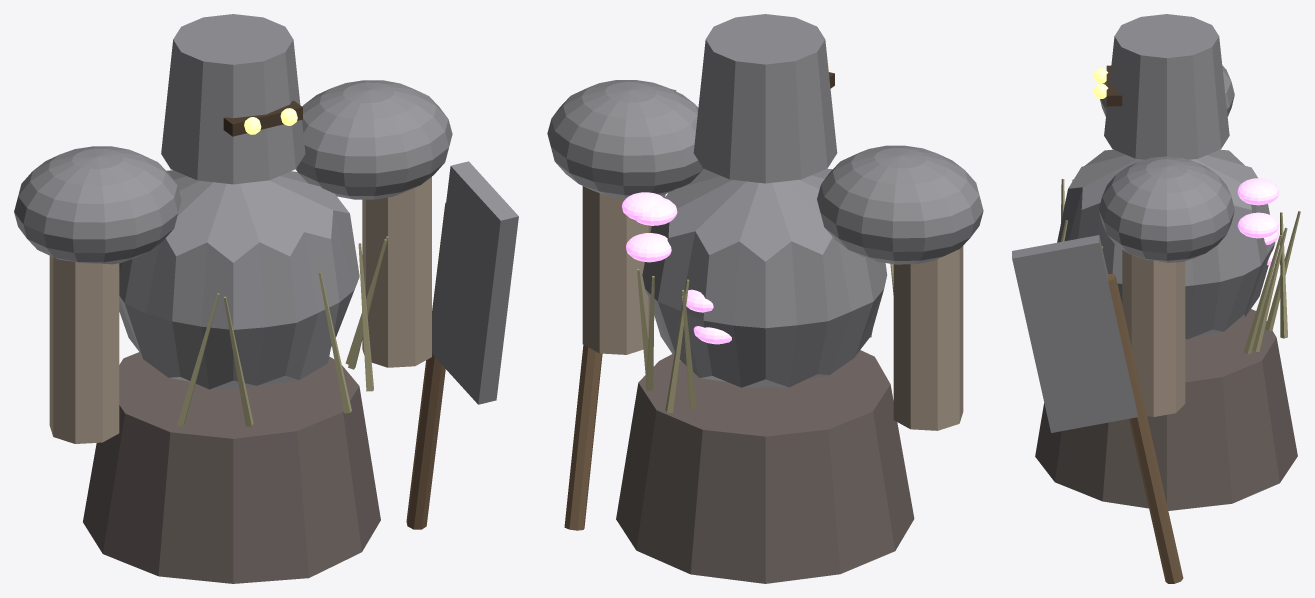
Rendered from bog_warden.glb.
The picture shows the model from 3 angles, left to right: view 1: azimuth 30°, elevation 25°; view 2: azimuth 150°, elevation 25°; view 3: azimuth 270°, elevation 25°; orthographic projection. The views are drawn at different scales.
Parts seen in each view (by area): view 1: bog_warden; view 2: bog_warden; view 3: bog_warden.
Boxes of the visible parts, bbox=[...] form: bog_warden: bbox=[14, 14, 518, 583]; bog_warden: bbox=[547, 14, 983, 583]; bog_warden: bbox=[1012, 14, 1300, 583].
Size of the model in its own units: 1.61 by 1.96 by 1.1.
